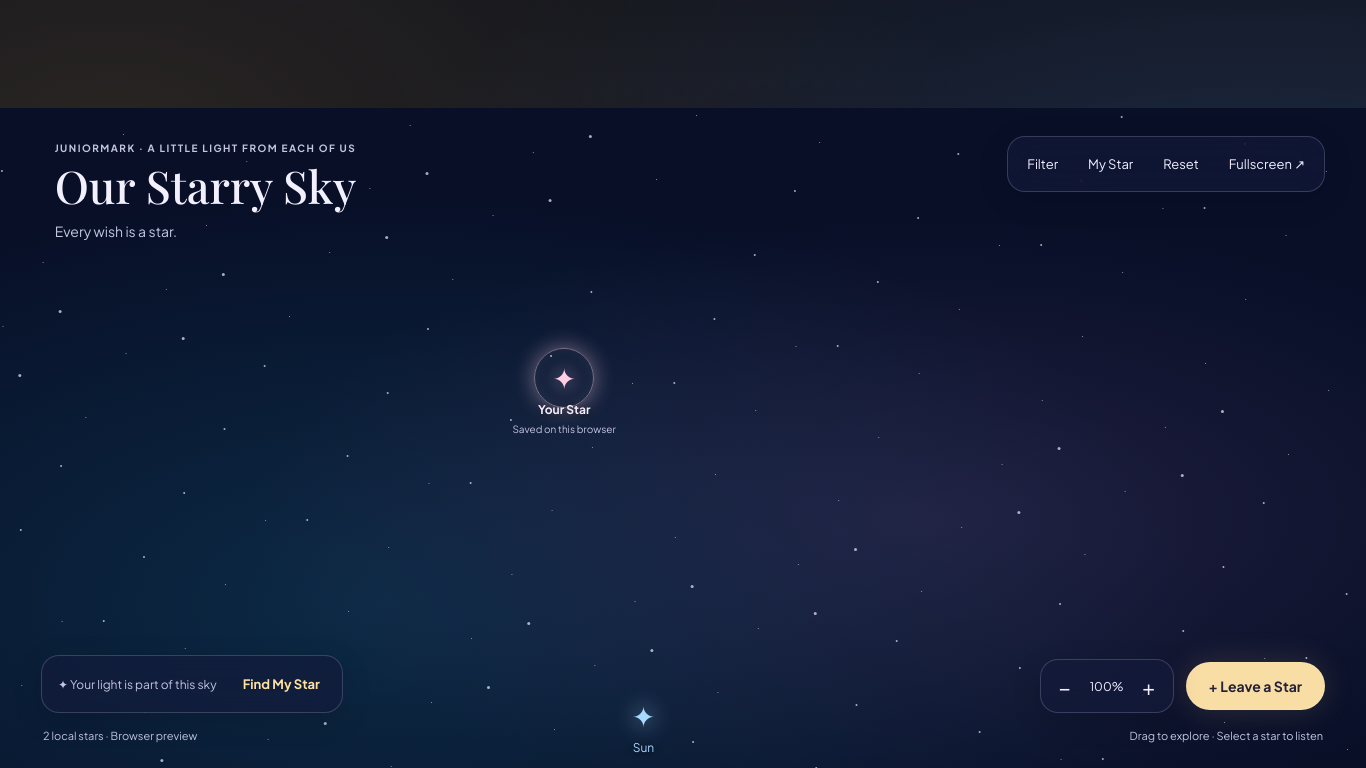
Scenario: finds the saved local star through another filter and keeps fan stars clickable
Click the button "Filter" at (1043, 164), box [1013,142,1072,186]
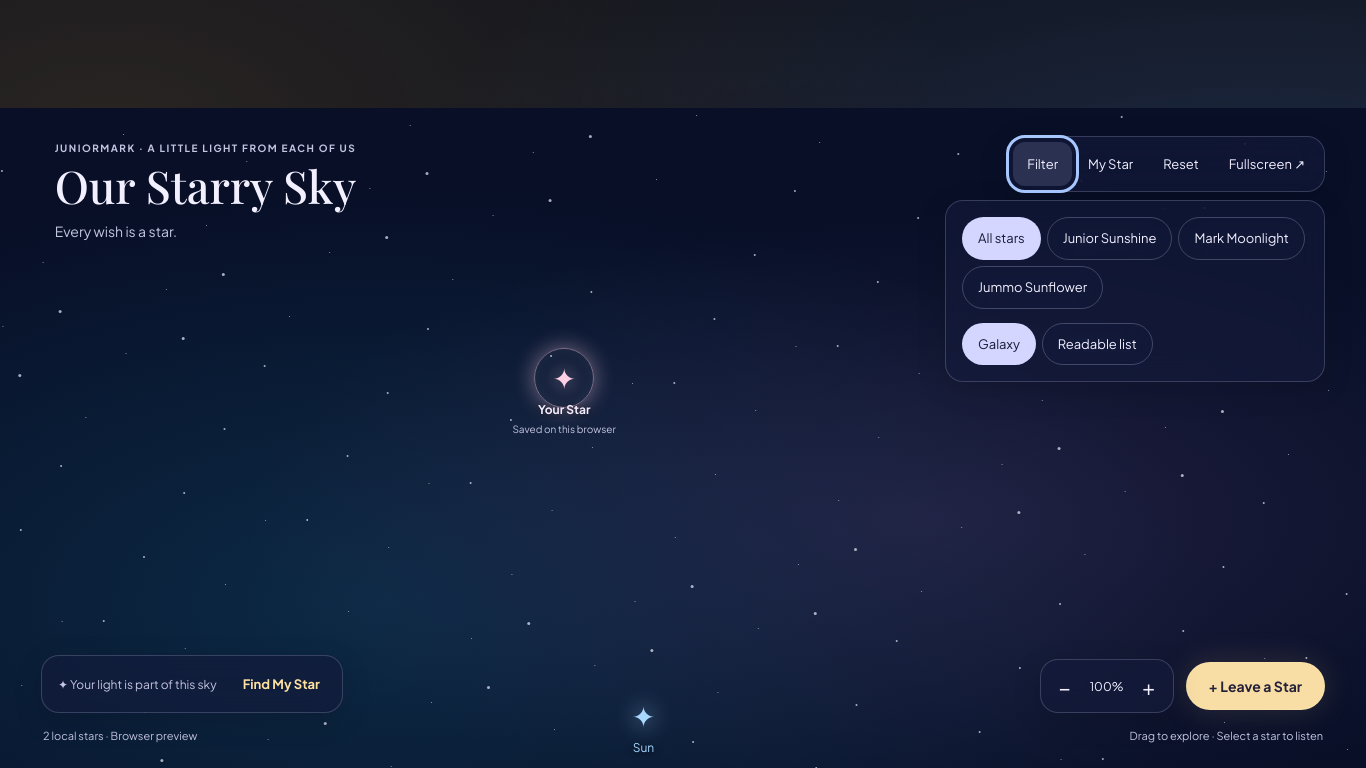
Click the button "Junior Sunshine" at (1110, 238), box [1047,217,1172,260]
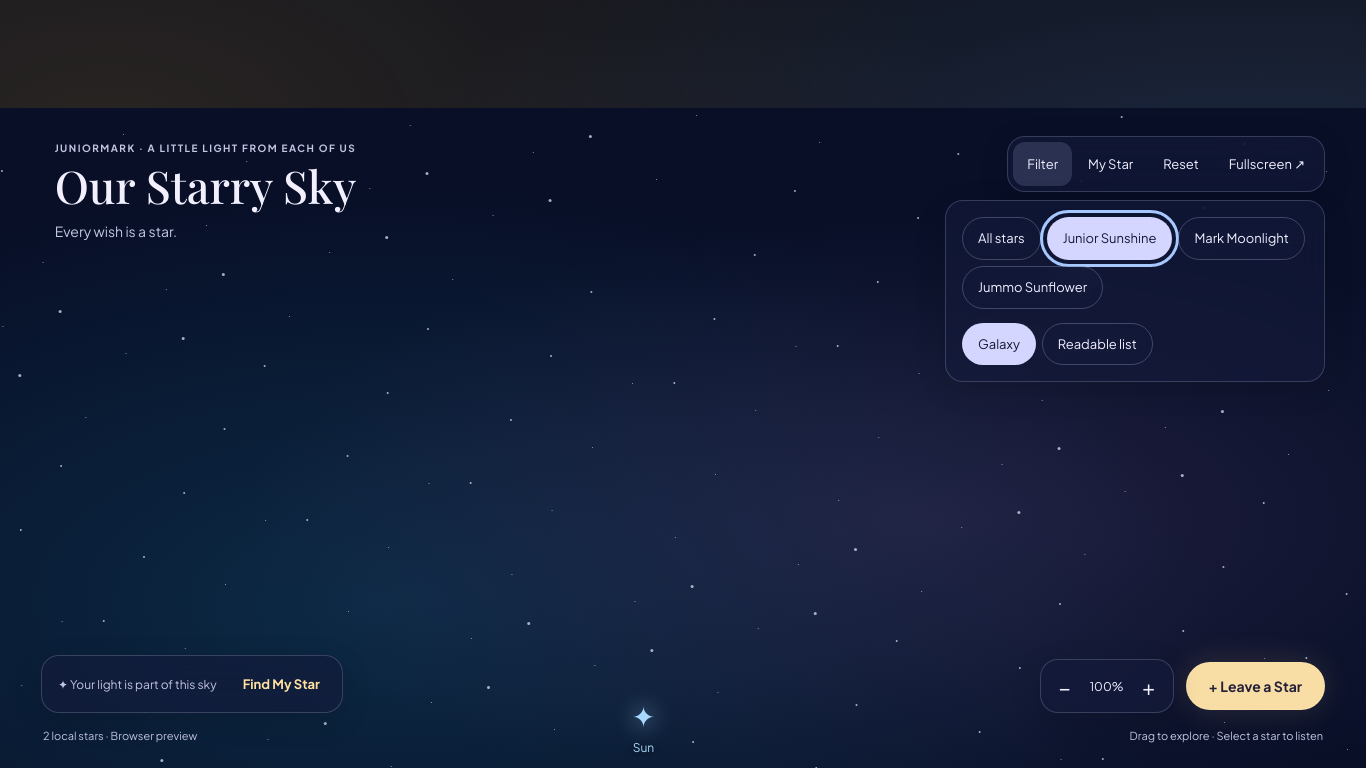
Click the button "Find My Star" at (281, 684), box [229,662,334,706]
(page scrolled)
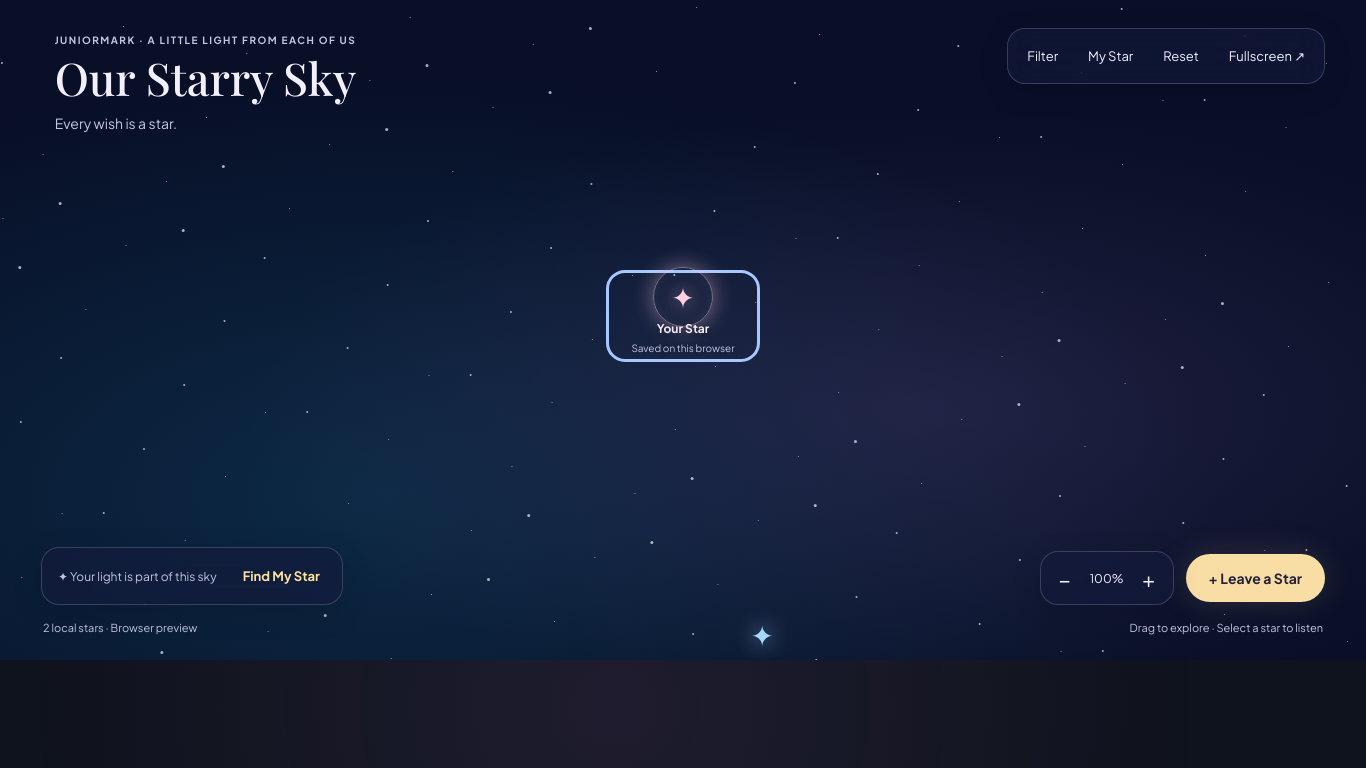
Click the button with aria-label "Star from Sun" at (762, 646), box [710,615,814,676]
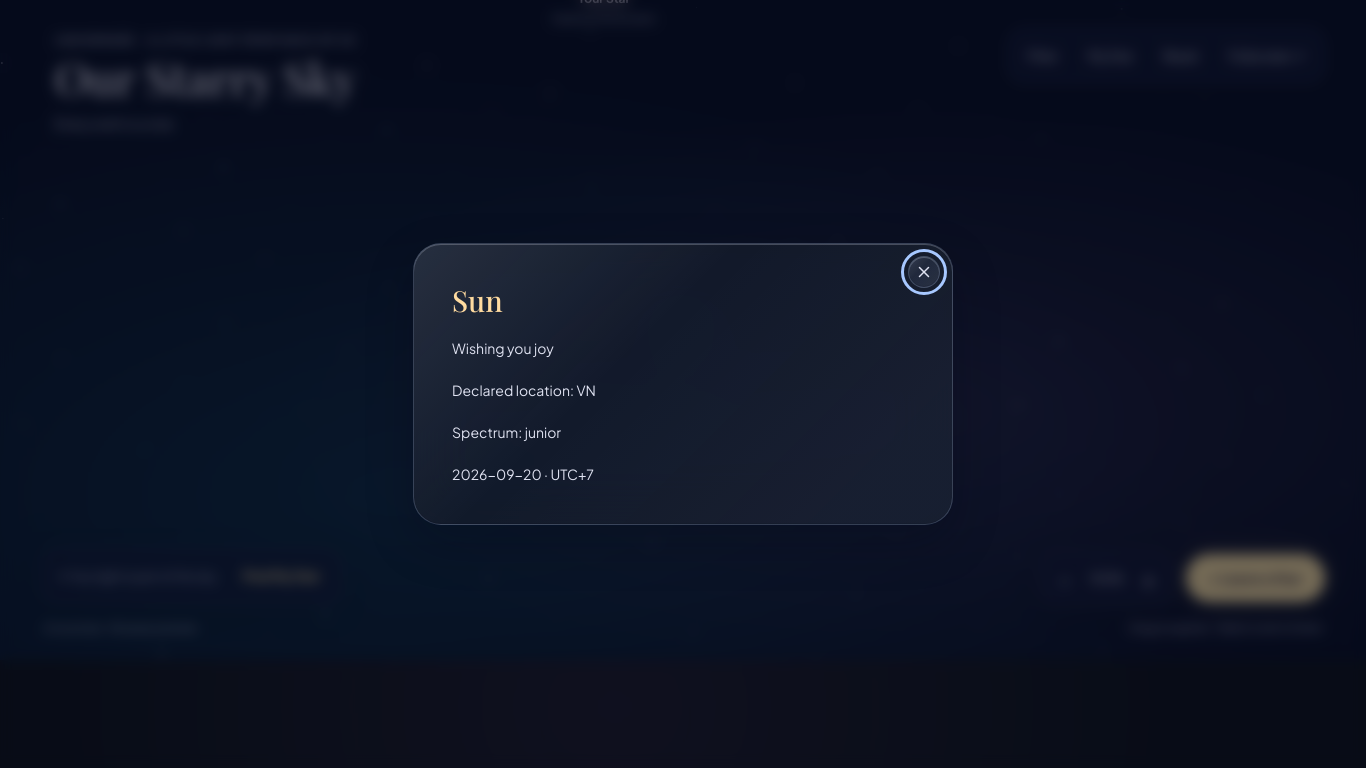
Expected: the dialog "Sun" shows "Wishing you joy", [452,339,554,357]
